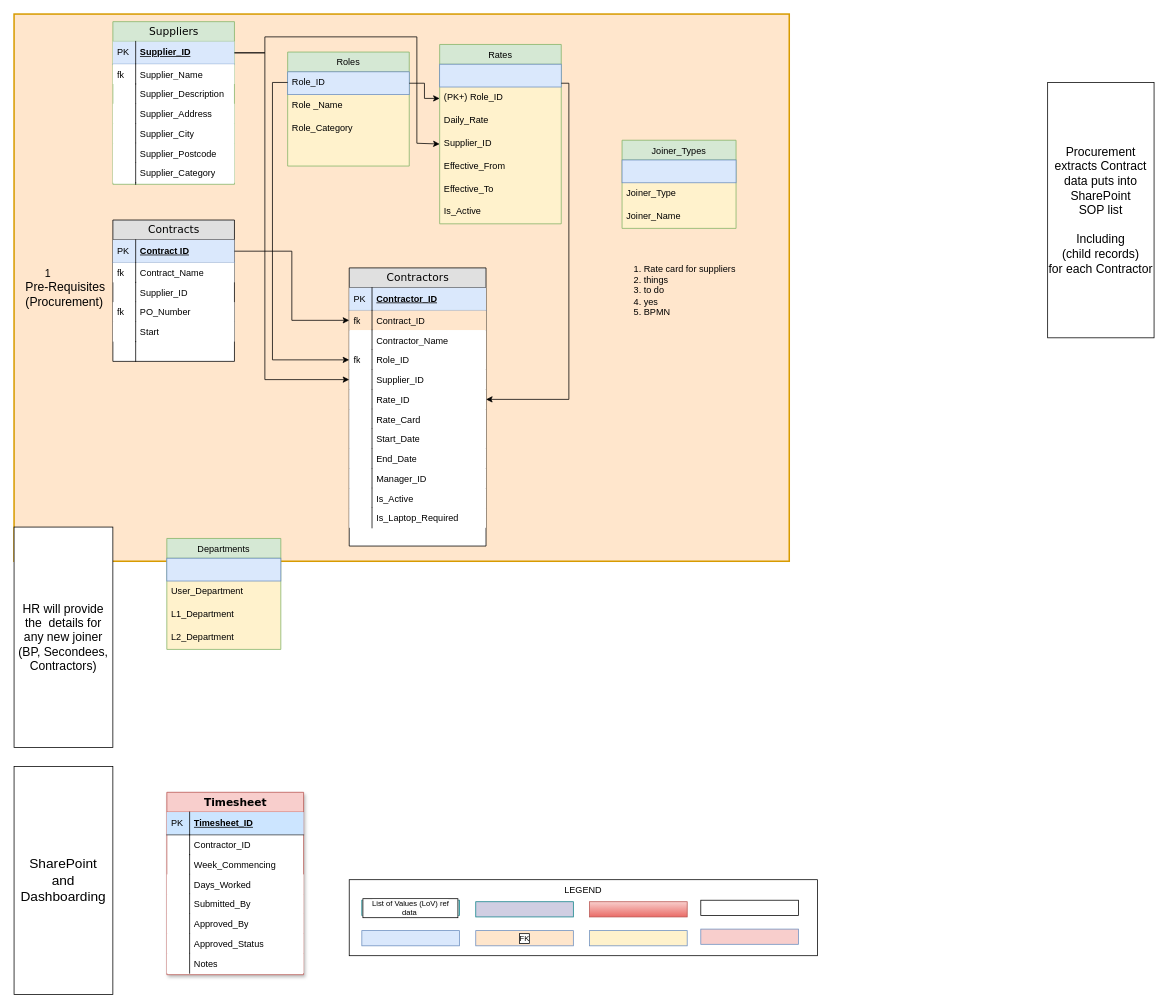
This 1167x1008 diagram has some shape labels left out. Here are the shapes that lost their labels. From the top down, the centre of each, then its label:
At point 500,75: "(PK) Rate_ID".
At point 678,171: "Joiner_ID".
At point 223,569: "Department_ID".
